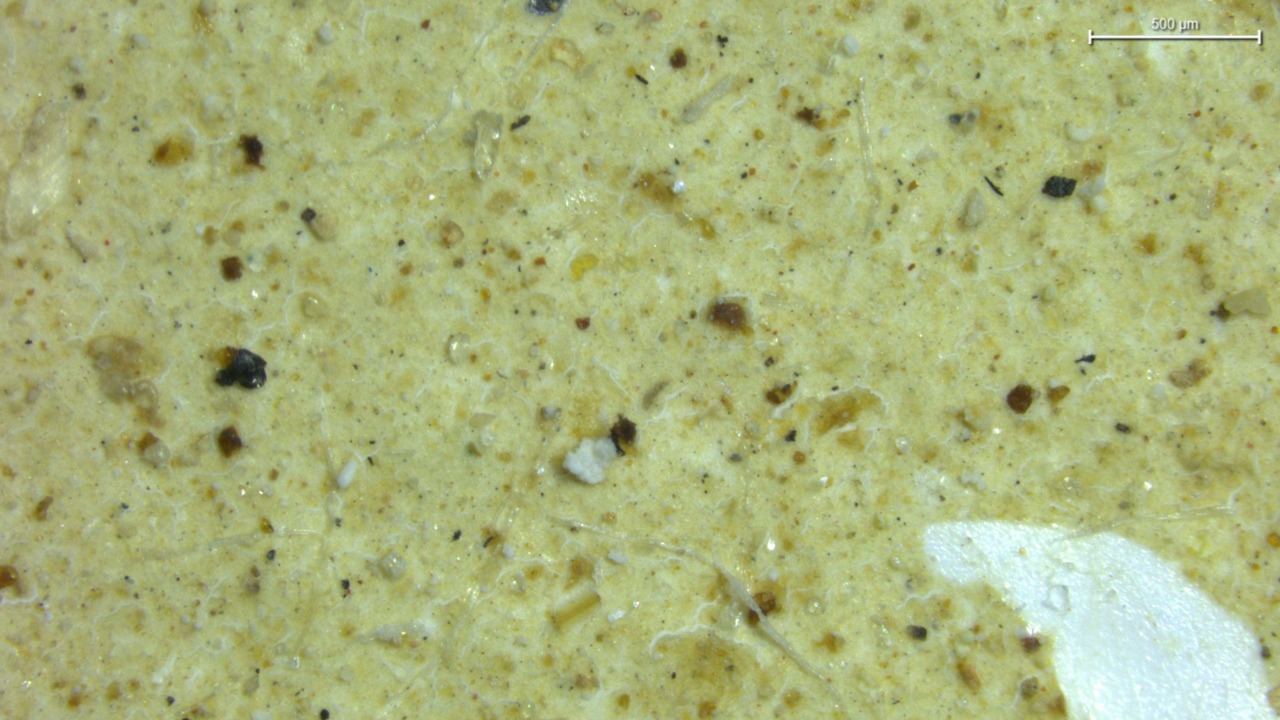microplastic_fragment: (562, 437, 620, 485), (333, 461, 360, 489)
